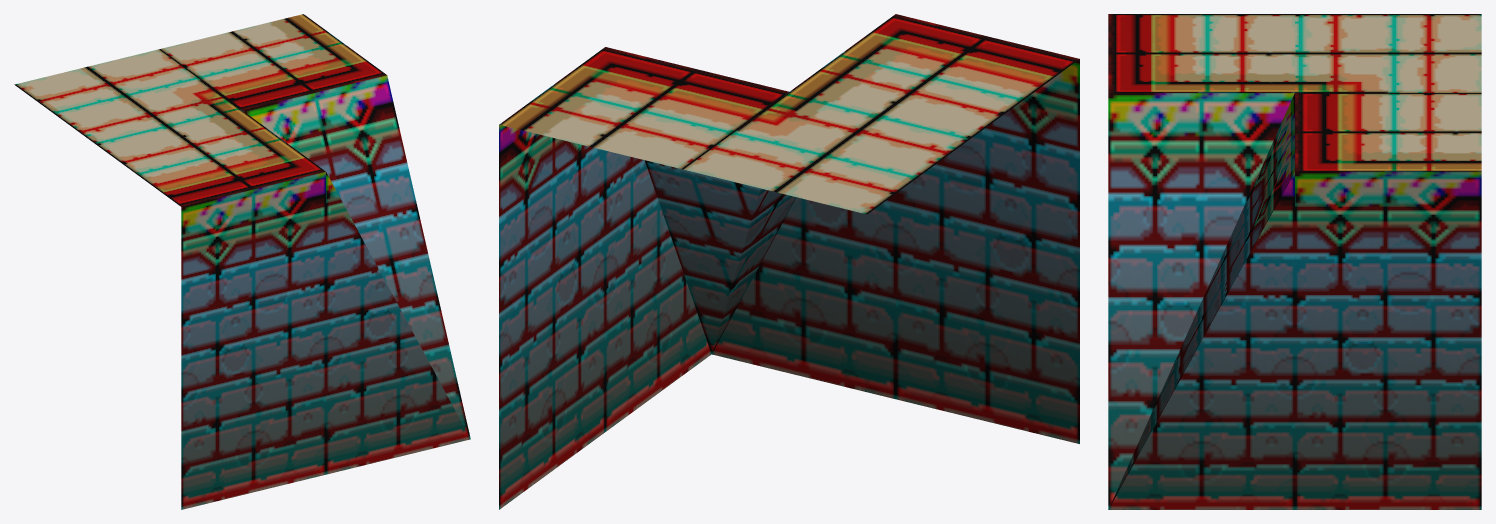
Rendered from arch_cathedral_wall_cornerInCap_AB.FBX.
The picture shows the model from 3 angles, left to right: view 1: azimuth 30°, elevation 25°; view 2: azimuth 150°, elevation 25°; view 3: azimuth 270°, elevation 25°; orthographic projection. The views are drawn at different scales.
Visible parts, largest first — view 1: arch_cathedral_wall_cornerInCap_AB; view 2: arch_cathedral_wall_cornerInCap_AB; view 3: arch_cathedral_wall_cornerInCap_AB.
Boxes of the visible parts, x1,y1,x2,y2 form: arch_cathedral_wall_cornerInCap_AB: [14, 14, 470, 509]; arch_cathedral_wall_cornerInCap_AB: [499, 14, 1079, 509]; arch_cathedral_wall_cornerInCap_AB: [1108, 14, 1481, 509].
Bounding box in the file's own units: 4 × 4 × 4.
Materials: 1 (1 with a texture image).
